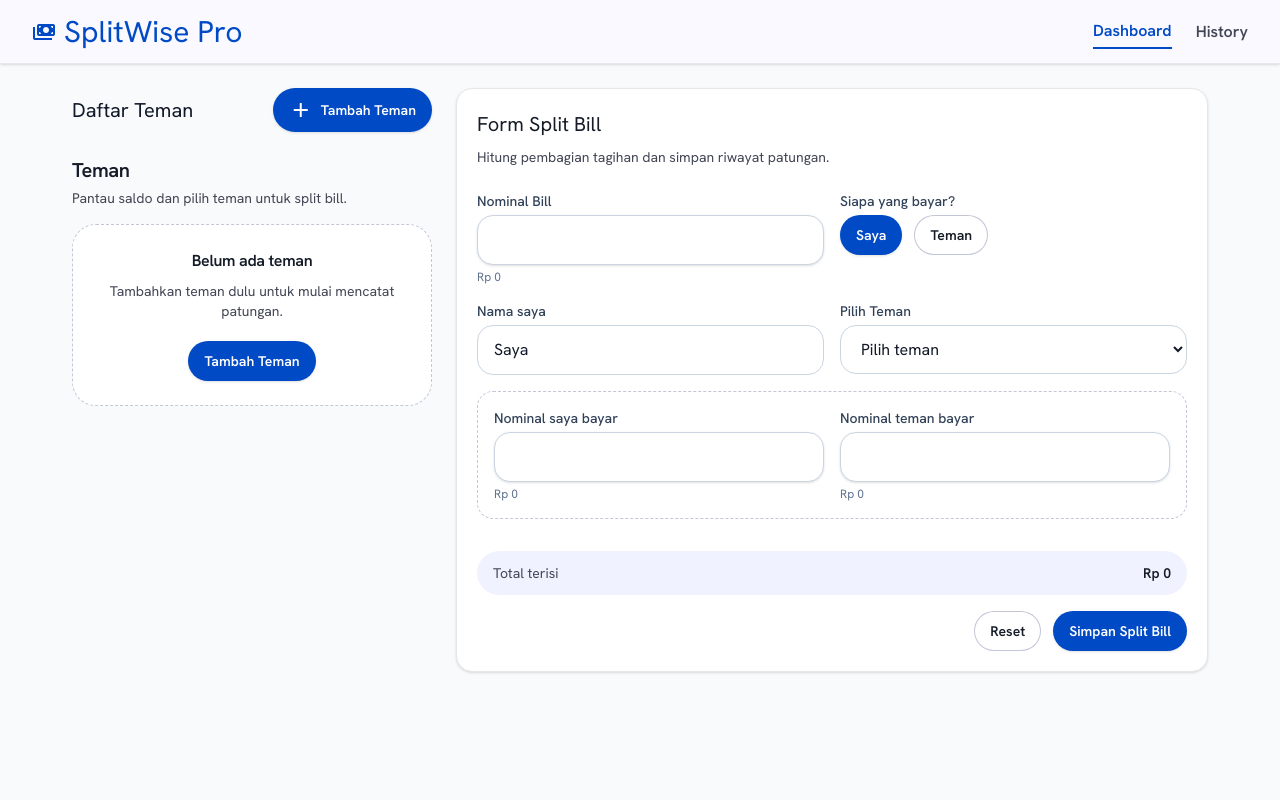
Test: Dashboard integration › adds friend with validation and can select friend
The image size is (1280, 800).
Click the button "Tambah Teman" below "Belum ada teman" at (252,361), box x1=188 y1=341 x2=316 y2=381
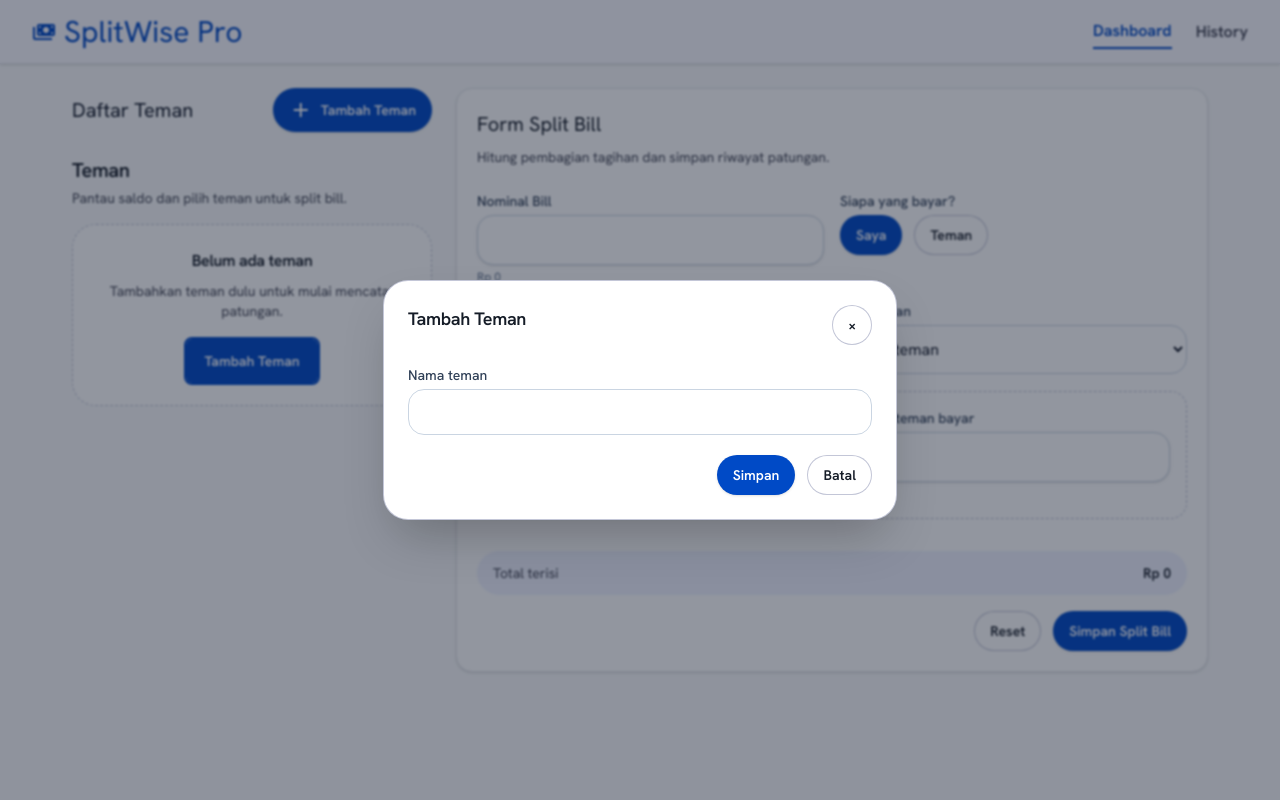
Click the button "Simpan" at (756,475), box x1=717 y1=455 x2=795 y2=495
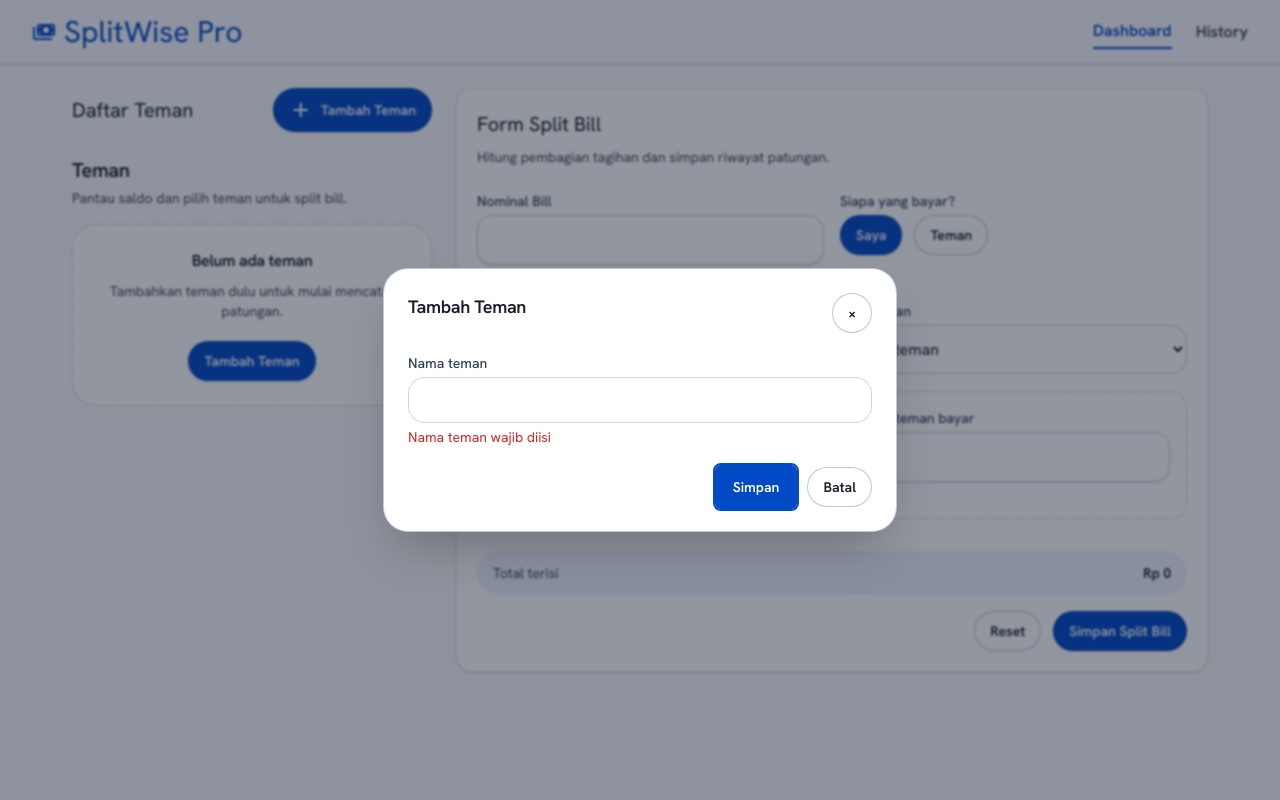
Check: the text "Nama teman wajib diisi" is shown, box x1=408 y1=428 x2=551 y2=446
Type "Budi" into the field at (640,400), box x1=408 y1=377 x2=872 y2=423
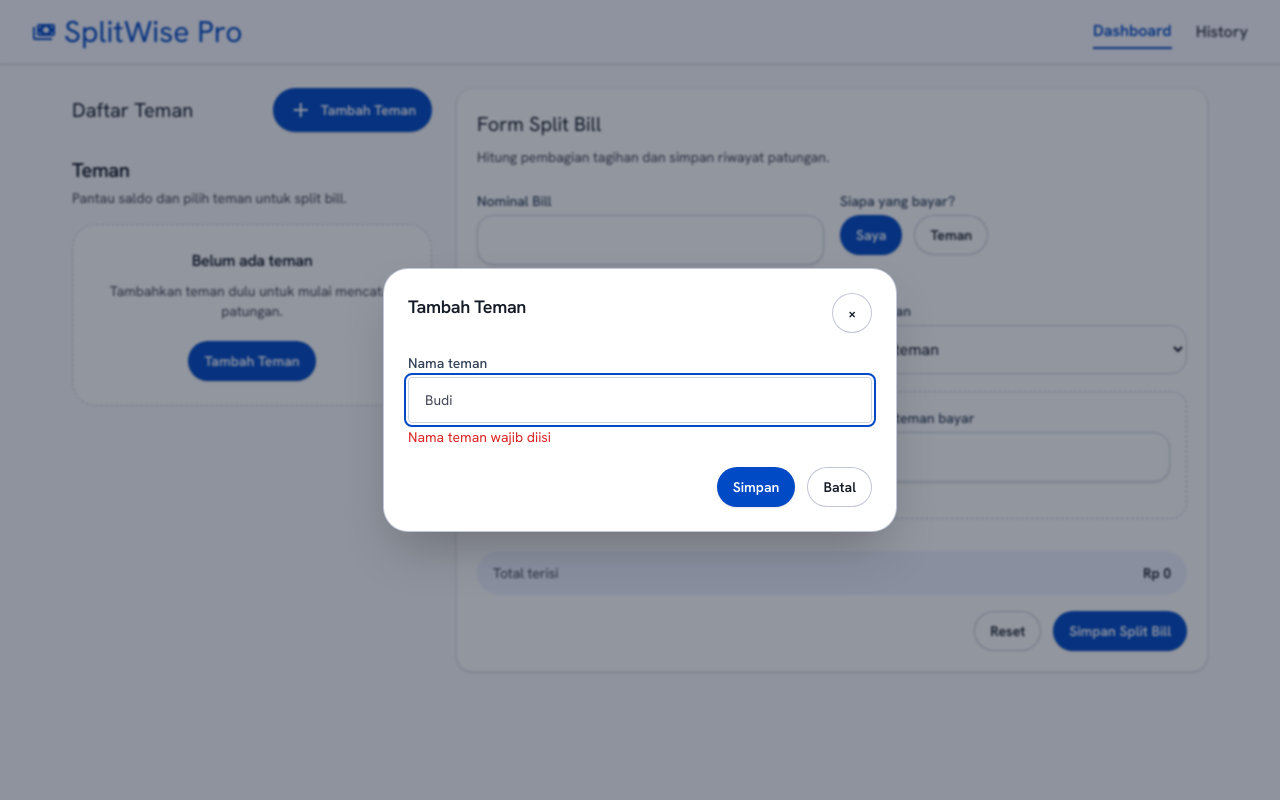
Click the button "Simpan" at (756,487), box x1=717 y1=467 x2=795 y2=507
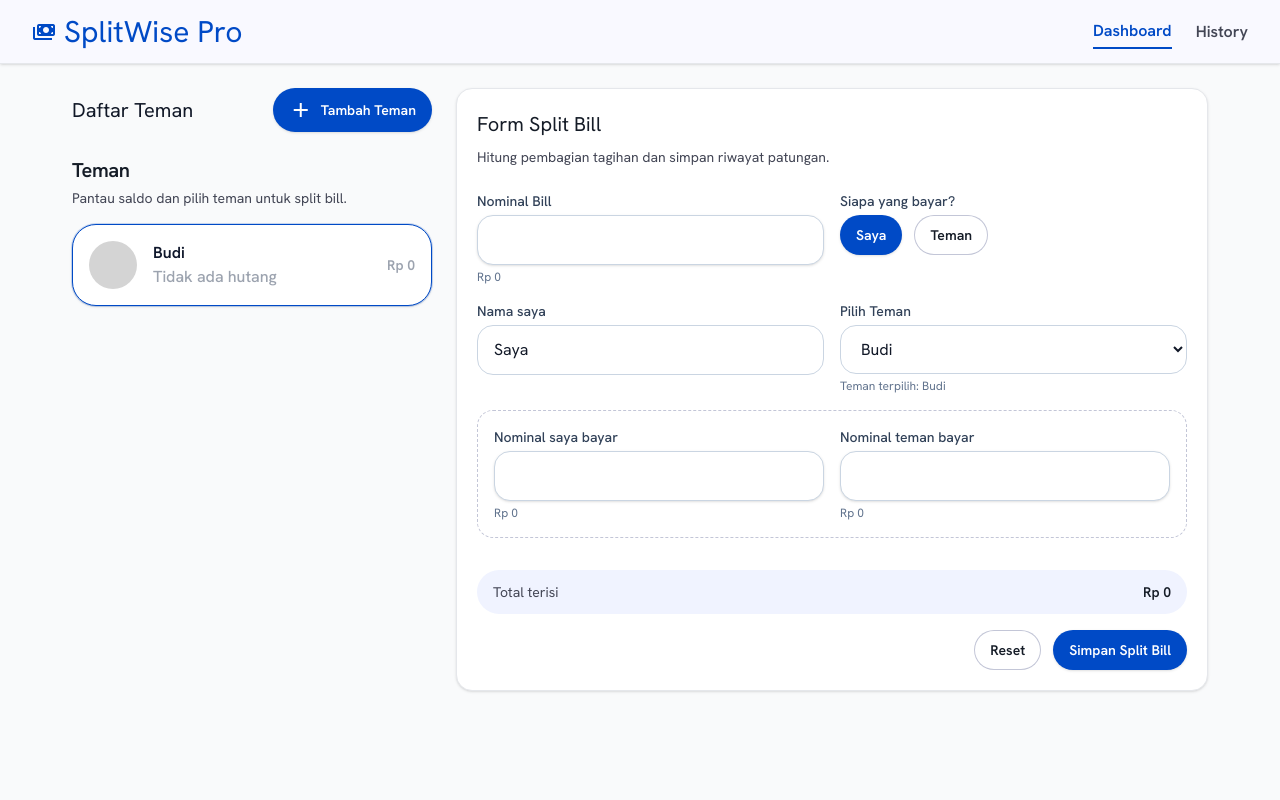
Check: the heading "Belum ada teman" is gone
